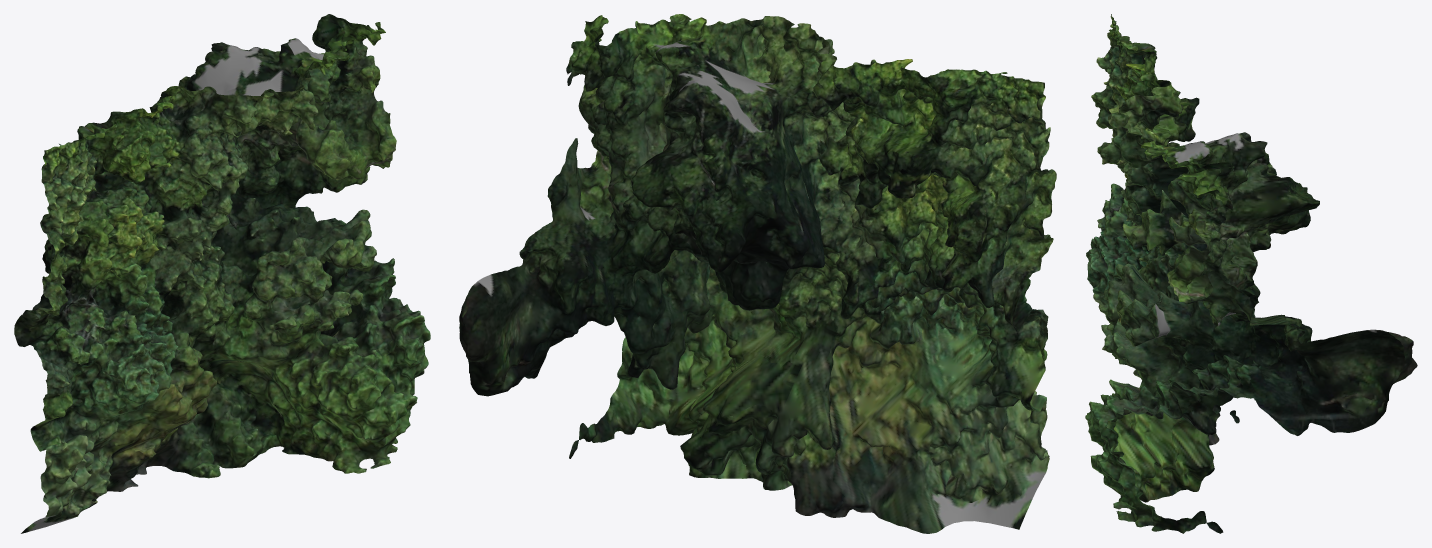
Rendered from Tile_+007_+004.fbx.
3 views of the same model, side by side, from view 1: azimuth 30°, elevation 25°; view 2: azimuth 150°, elevation 25°; view 3: azimuth 270°, elevation 25° (orthographic). The views are drawn at different scales.
Parts seen in each view (by area): view 1: DefaultName; view 2: DefaultName; view 3: DefaultName.
Boxes of the visible parts, box(x1,y1,x2,y2) form: DefaultName: box(14, 14, 430, 533); DefaultName: box(459, 14, 1056, 533); DefaultName: box(1085, 14, 1417, 533).
Size of the model in its own units: 22.54 by 22.54 by 19.14.
